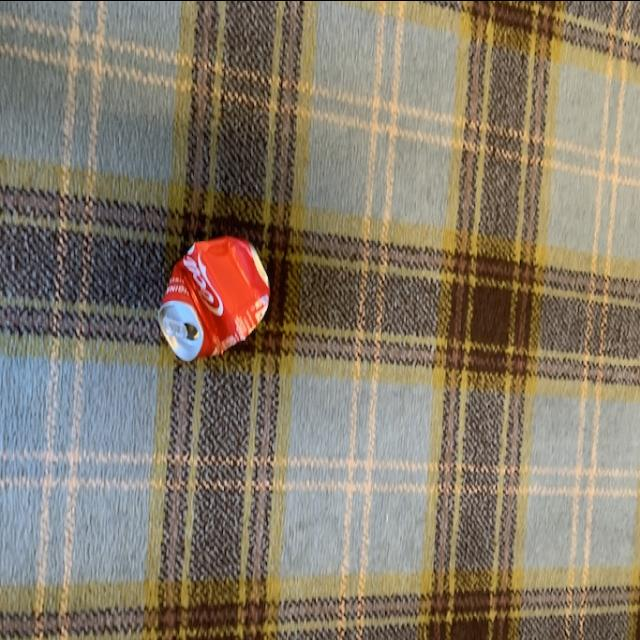litter: (156, 224, 274, 360)
